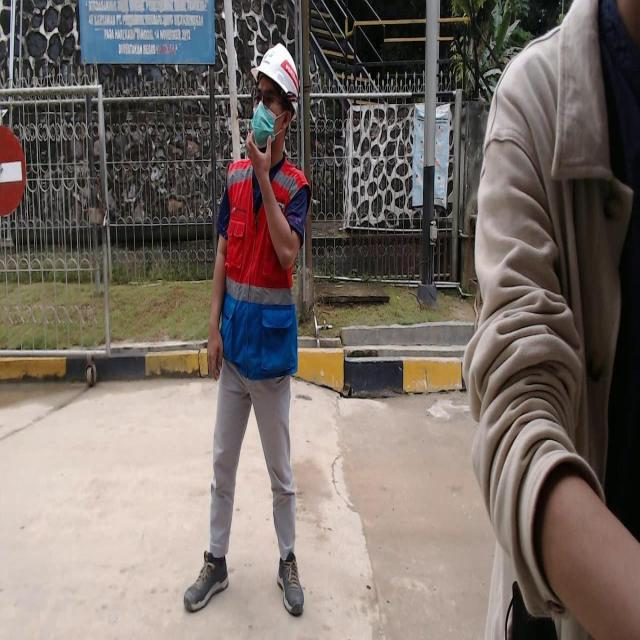helmet: (255, 39, 300, 111)
